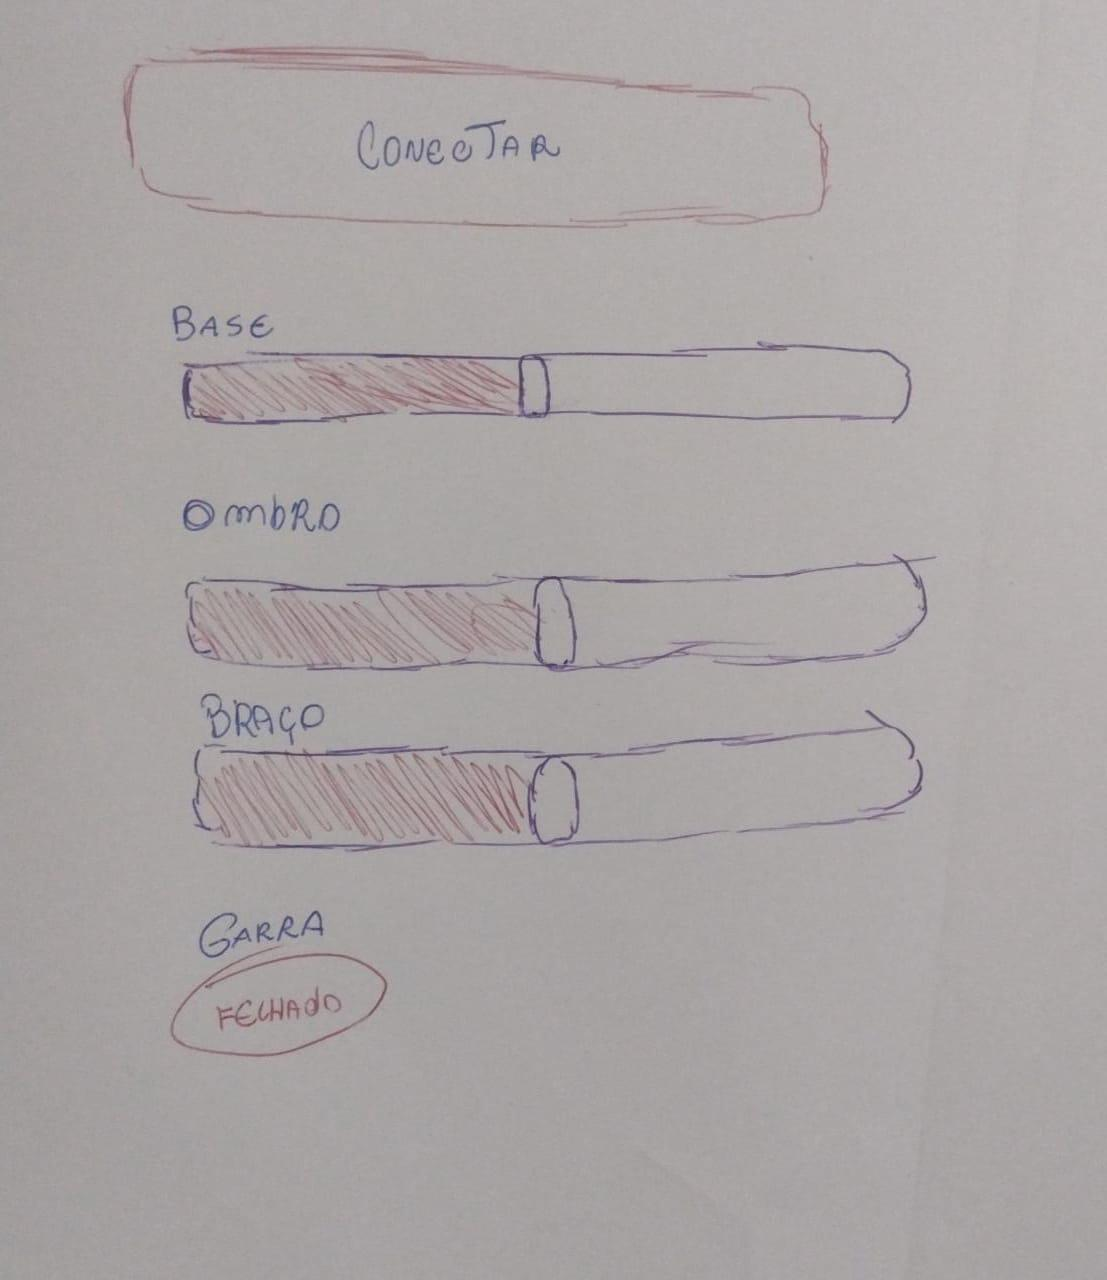Button: (122, 45, 828, 229), (169, 952, 388, 1056)
Label: (197, 909, 325, 958), (183, 496, 341, 531), (202, 693, 323, 738), (173, 301, 274, 341)
Screen: (0, 0, 1106, 1279)
Slider: (193, 724, 922, 849), (185, 561, 926, 667), (181, 345, 911, 427)
